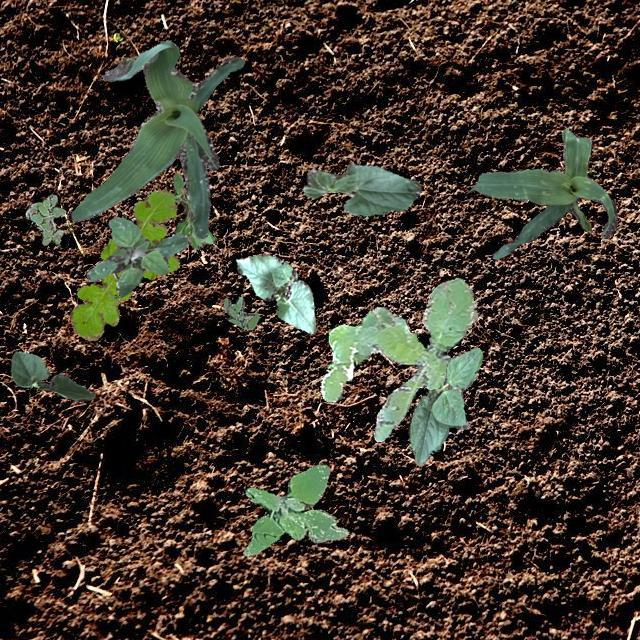crop: (70, 39, 244, 238), (470, 126, 616, 258), (406, 346, 482, 464), (236, 254, 316, 332), (302, 162, 421, 214), (10, 350, 94, 400)
weed: (318, 276, 476, 440), (68, 190, 178, 340), (244, 464, 348, 556), (86, 216, 188, 296), (170, 172, 213, 248), (24, 193, 64, 244), (222, 296, 258, 330)
